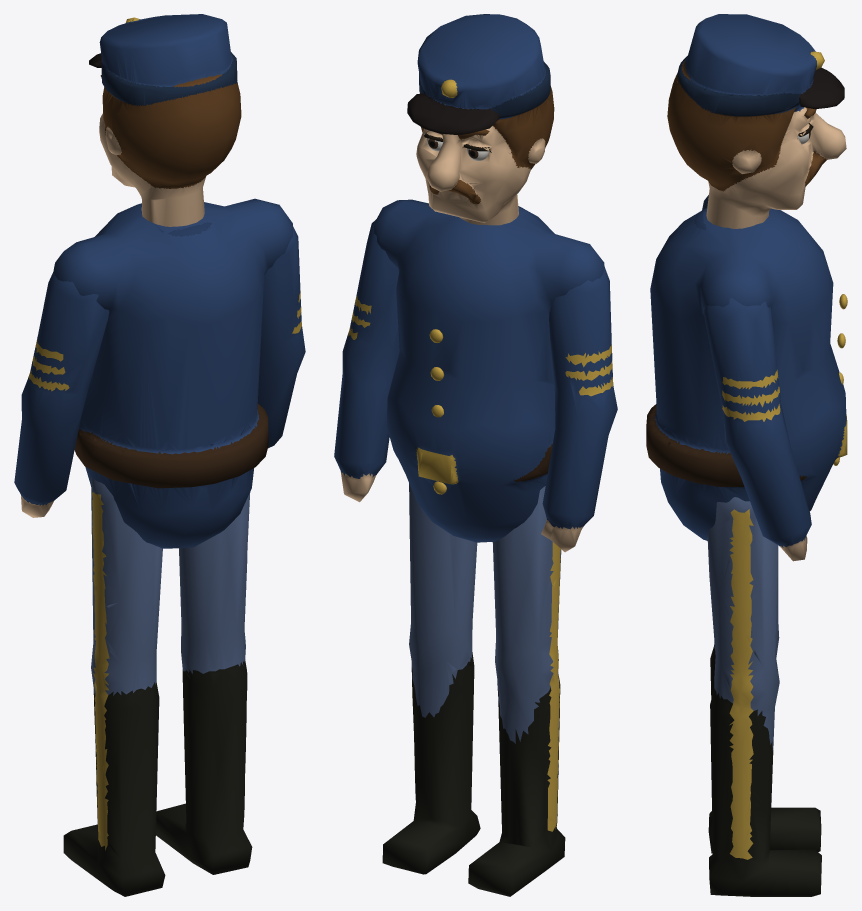
File: sergeant.glb
The picture shows the model from 3 angles, left to right: view 1: azimuth 30°, elevation 25°; view 2: azimuth 150°, elevation 25°; view 3: azimuth 270°, elevation 25°; orthographic projection. The views are drawn at different scales.
Parts seen in each view (by area): view 1: body_lod0, leg_l_lod0, head_lod0, leg_r_lod0, arm_l_lod0, arm_r_lod0; view 2: body_lod0, head_lod0, leg_l_lod0, leg_r_lod0, arm_l_lod0, arm_r_lod0; view 3: body_lod0, head_lod0, leg_r_lod0, arm_r_lod0, leg_l_lod0.
Boxes of the visible parts, <box> form: body_lod0: <box>53,198,292,548</box>; leg_l_lod0: <box>63,477,165,896</box>; head_lod0: <box>89,14,241,226</box>; leg_r_lod0: <box>156,492,252,874</box>; arm_l_lod0: <box>14,271,109,517</box>; arm_r_lod0: <box>257,226,305,448</box>; body_lod0: <box>373,199,604,542</box>; head_lod0: <box>407,14,554,225</box>; leg_l_lod0: <box>468,486,565,896</box>; leg_r_lod0: <box>382,483,480,874</box>; arm_l_lod0: <box>541,267,617,552</box>; arm_r_lod0: <box>334,219,399,502</box>; body_lod0: <box>646,195,847,540</box>; head_lod0: <box>667,14,846,228</box>; leg_r_lod0: <box>707,497,821,896</box>; arm_r_lod0: <box>703,298,811,561</box>; leg_l_lod0: <box>708,545,821,853</box>.
Size of what is drawn, in the model's own units: 0.6486 by 1.94 by 0.4195.
